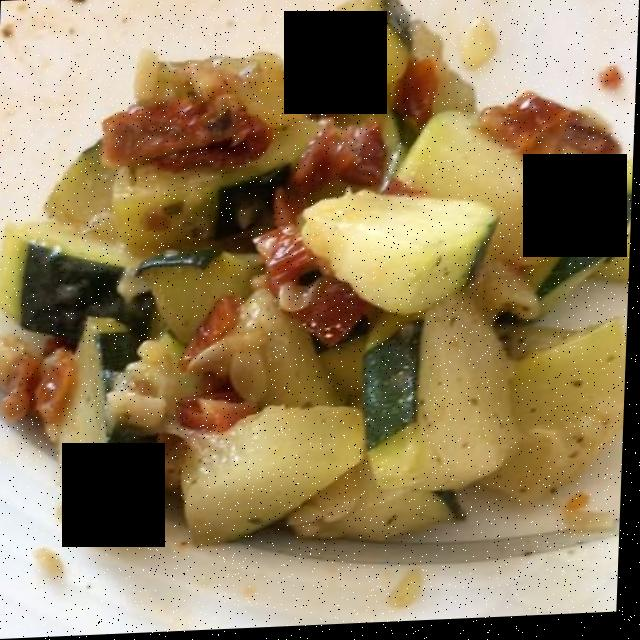sun-dried-tomatoe: (18, 69, 604, 443)
zucchini: (3, 6, 623, 533)
